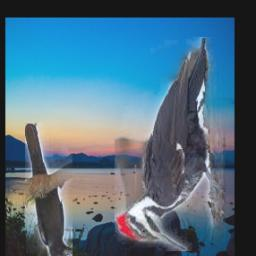Crow: (26, 124, 73, 256)
Woodpecker: (115, 37, 226, 251)
